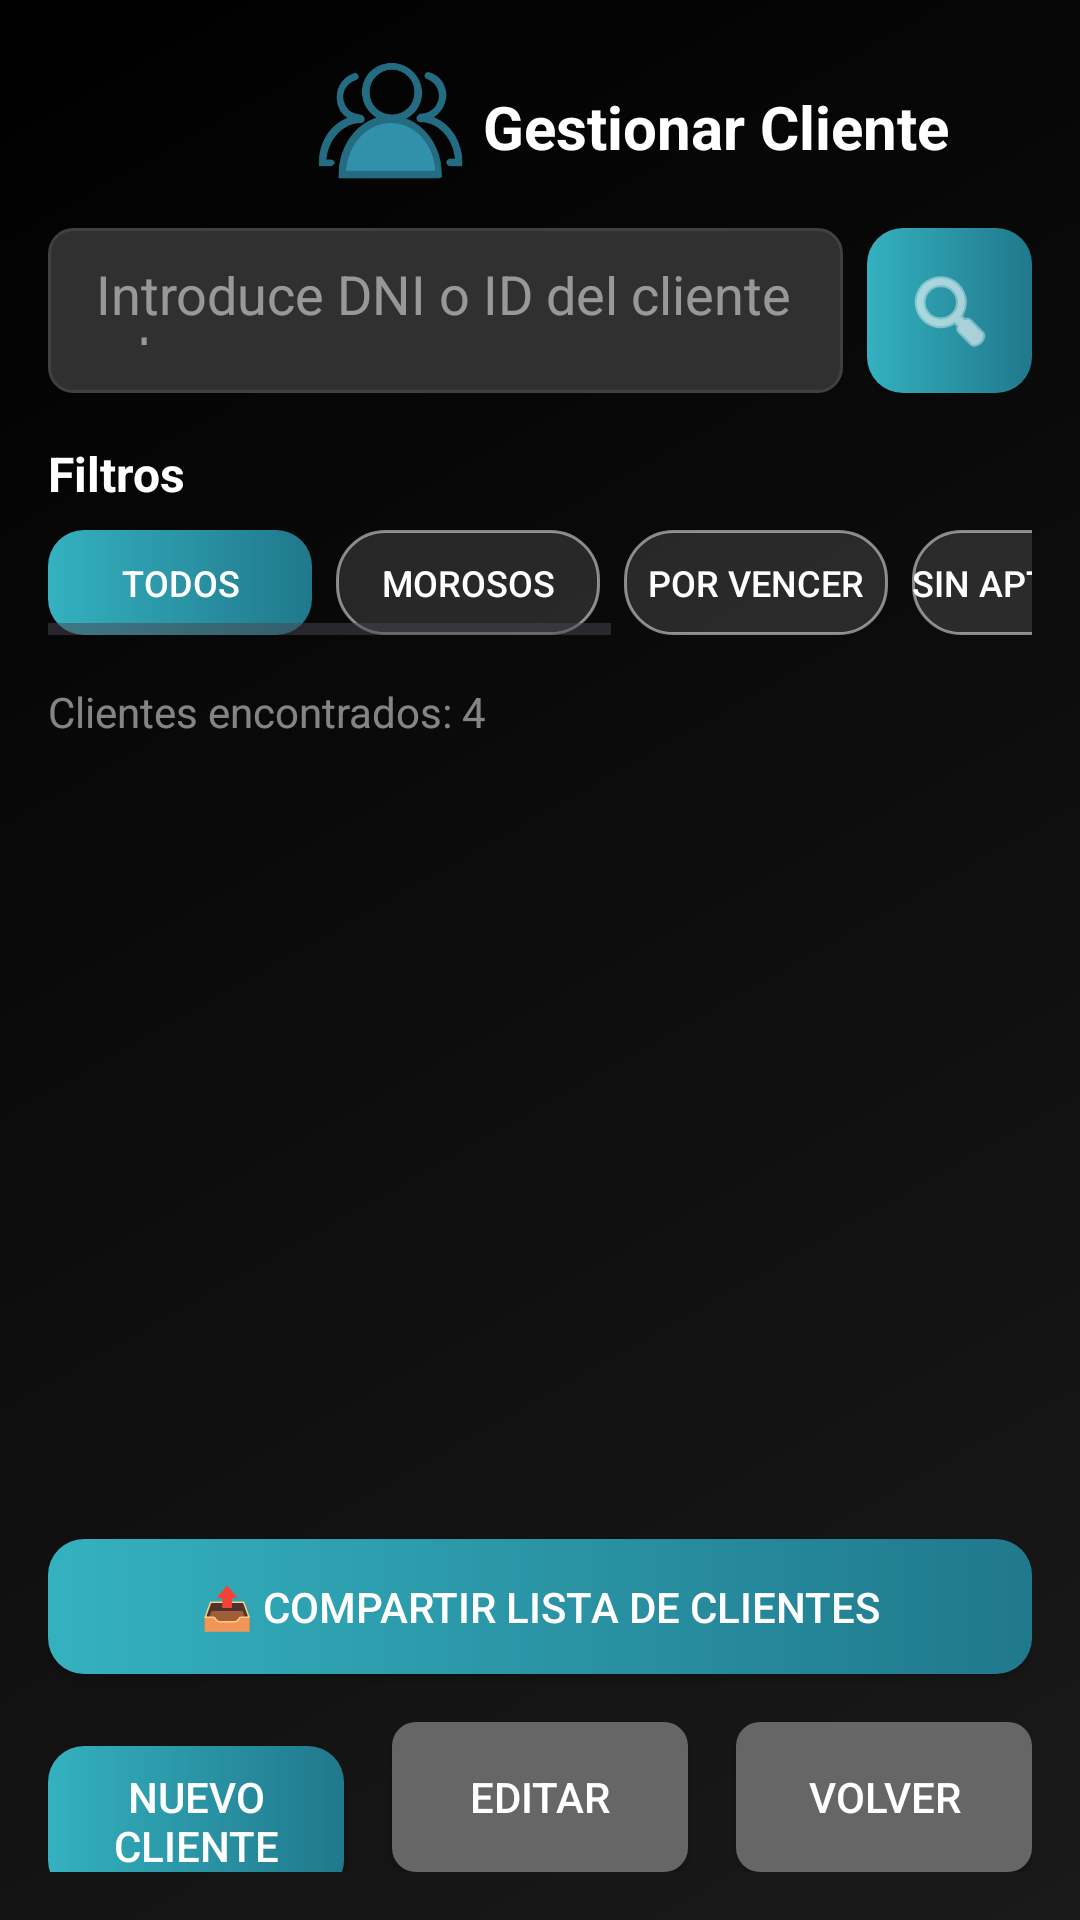

Icon bounding boxes for this 1080 × 1920 phone screenshot, format [left=x1, top=y1, right=x2, bottom=y2]:
search: [left=867, top=228, right=1032, bottom=393]
